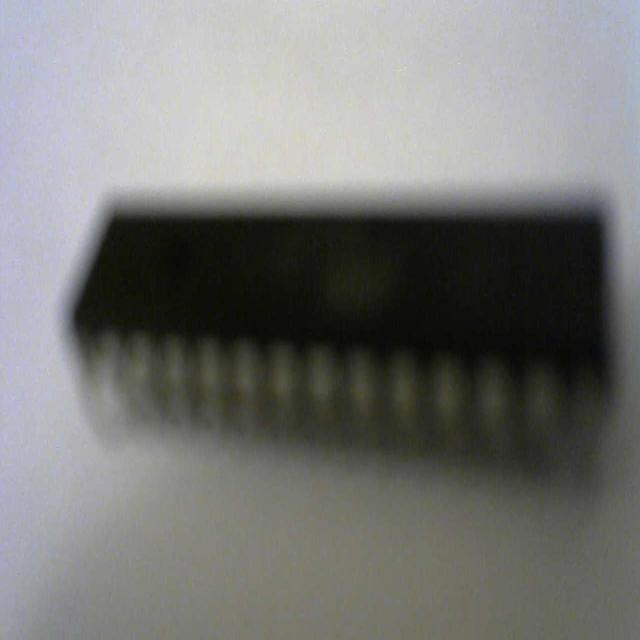atmega: (64, 181, 617, 484)
